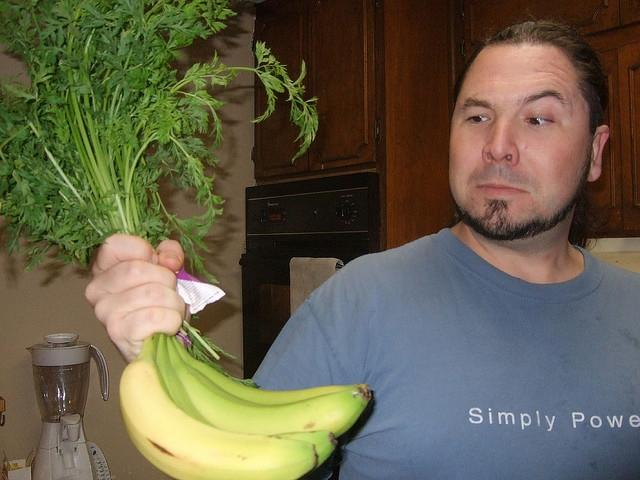banana: (119, 333, 318, 480), (156, 334, 338, 474), (167, 336, 372, 440), (172, 336, 370, 404)
